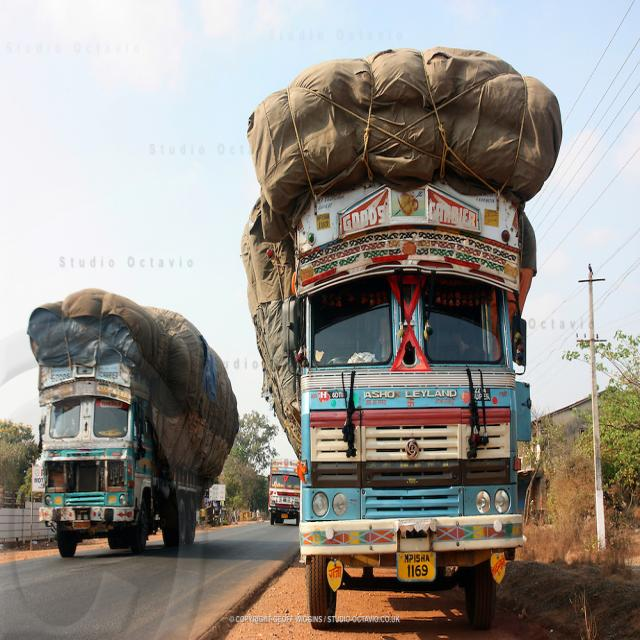overloaded_truck: (190, 56, 640, 640)
